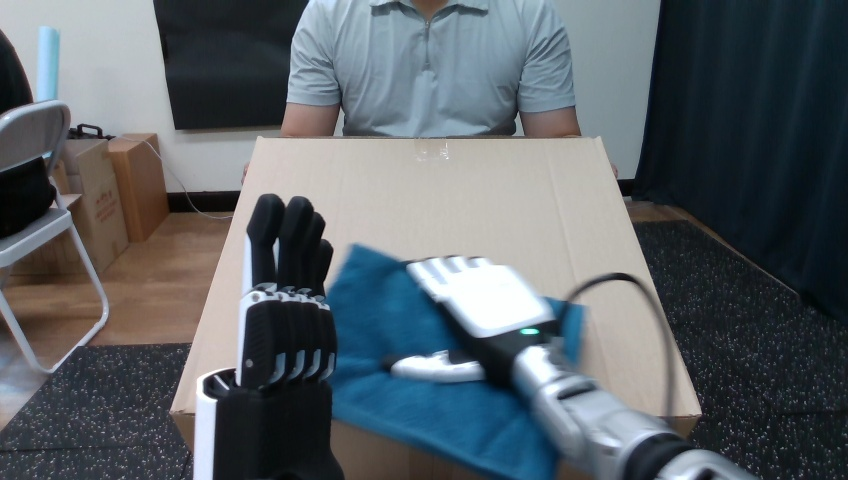left robot hand: (390, 256, 754, 479), (194, 194, 343, 479)
